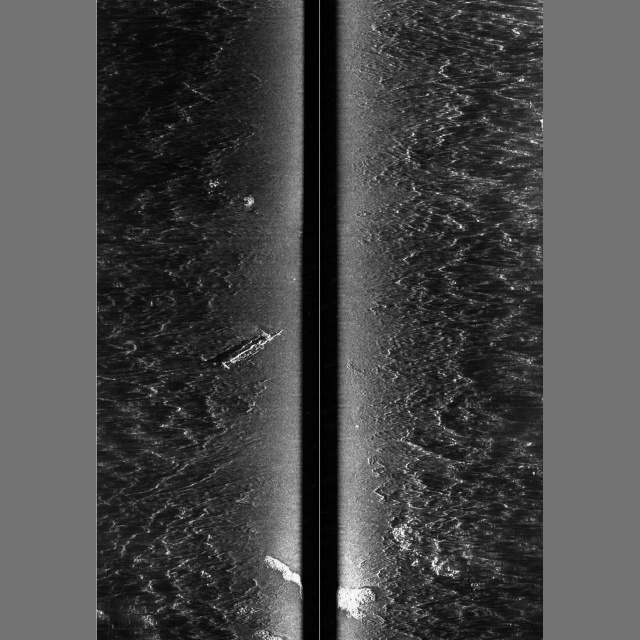Shipwreck: (221, 327, 283, 370)
